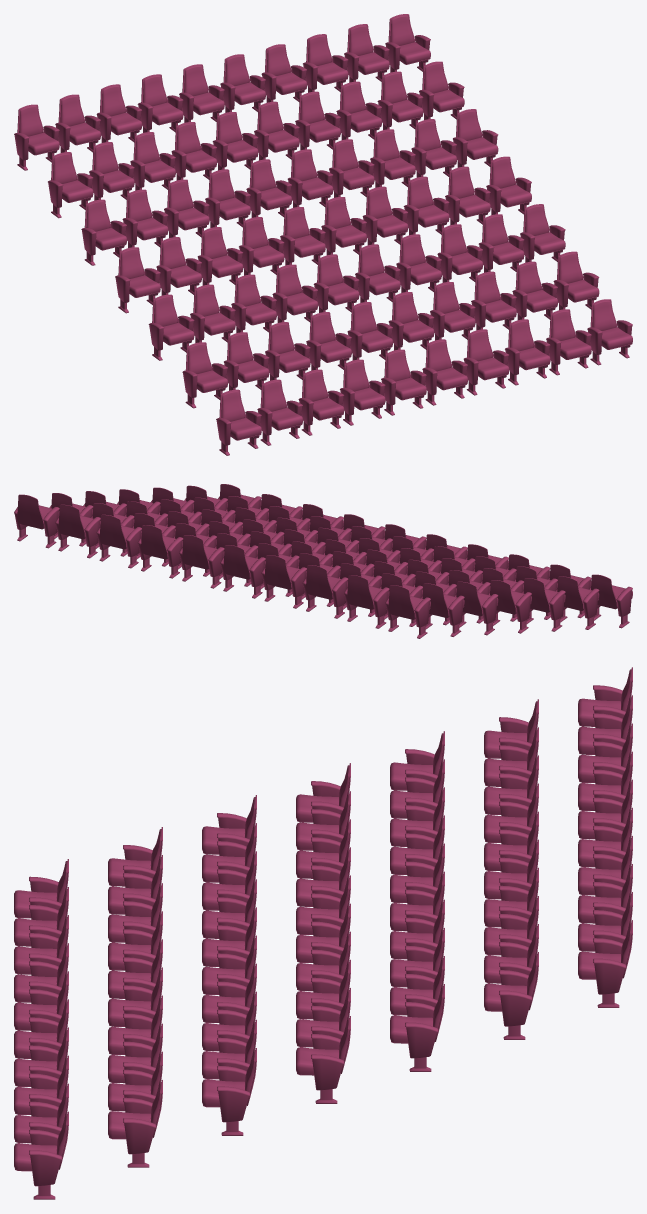
The model's file is AD_Chair_arrange.fbx.
3 views of the same model, one above another, from view 1: azimuth 30°, elevation 25°; view 2: azimuth 150°, elevation 25°; view 3: azimuth 270°, elevation 25° (orthographic). The views are drawn at different scales.
Parts seen in each view (by area): view 1: AD_Chair_Arrange; view 2: AD_Chair_Arrange; view 3: AD_Chair_Arrange.
Part boxes in pixels (x1=…): AD_Chair_Arrange: x1=14, y1=14, x2=632, y2=455; AD_Chair_Arrange: x1=14, y1=484, x2=632, y2=638; AD_Chair_Arrange: x1=14, y1=667, x2=632, y2=1199.
Bounding box in the file's own units: 837 × 373 × 790.
